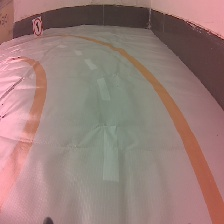limit: (31, 15, 44, 38)
